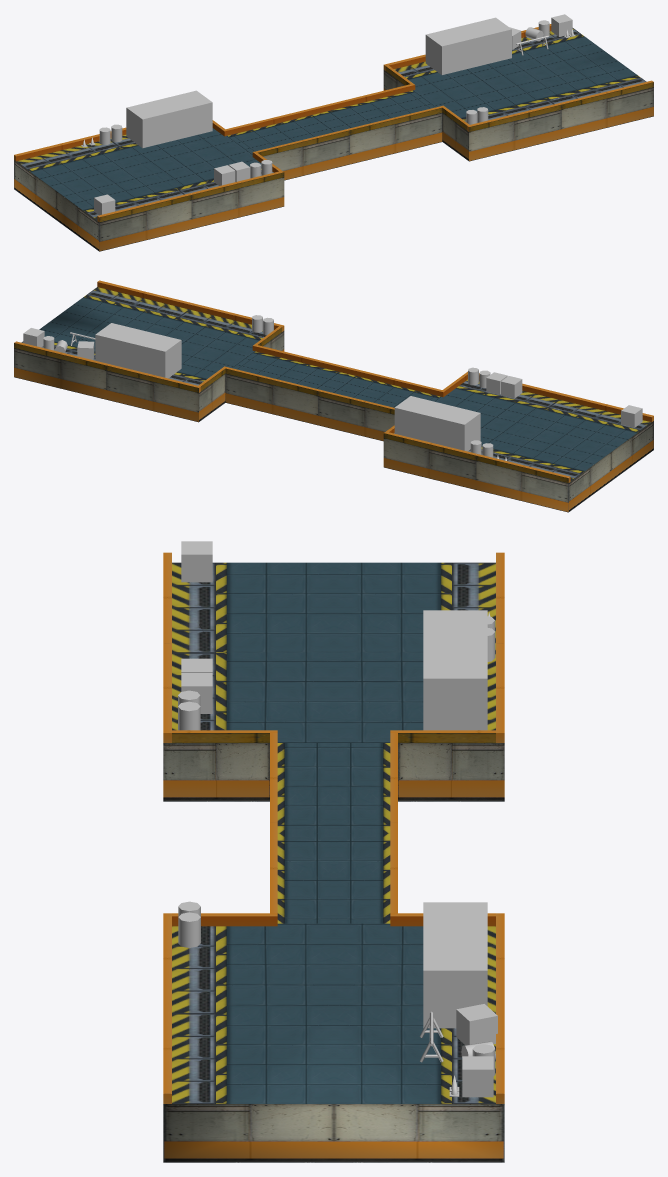
File: background_a.FBX
The picture shows the model from 3 angles, top to bottom: view 1: azimuth 30°, elevation 25°; view 2: azimuth 150°, elevation 25°; view 3: azimuth 270°, elevation 25°; orthographic projection. The views are drawn at different scales.
Visible parts, largest first — view 1: background002, Object250; view 2: background002, Object250; view 3: background002, Object250.
Boxes of the visible parts, x1,y1,x2,y2 form: background002: [14, 24, 653, 251]; Object250: [81, 14, 575, 215]; background002: [14, 280, 653, 512]; Object250: [23, 315, 642, 460]; background002: [163, 552, 504, 1162]; Object250: [178, 541, 497, 1097].
Bounding box in the file's own units: 6000 × 1600 × 602.
